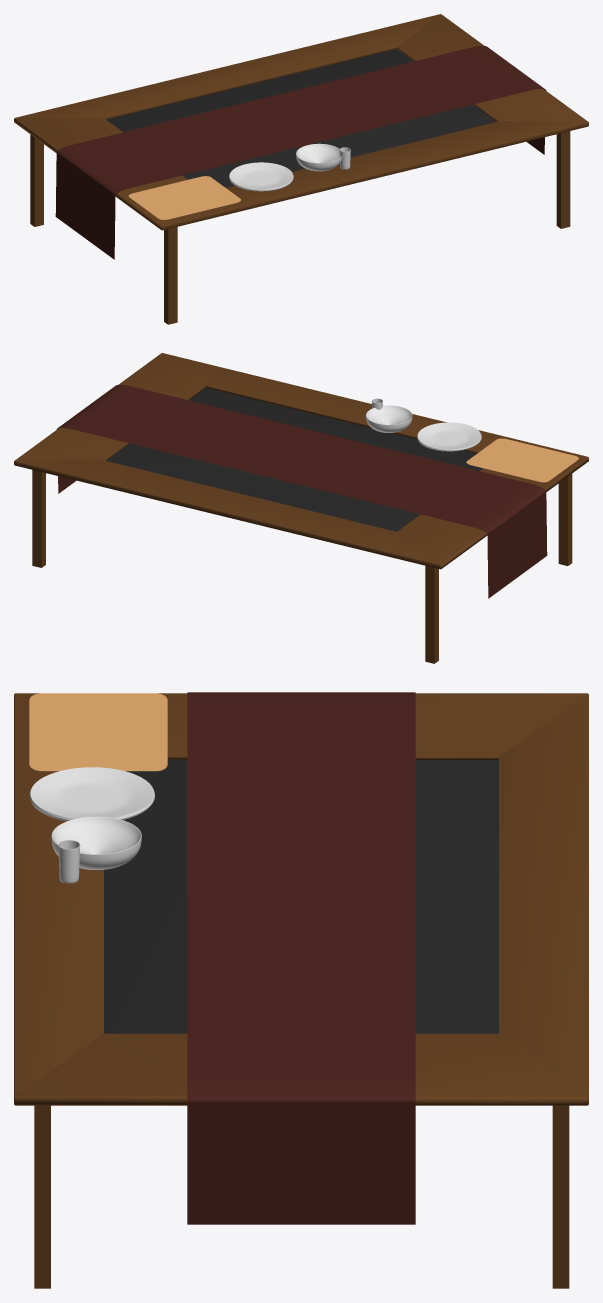
Rendered from Dining Table.fbx.
3 views of the same model, one above another, from view 1: azimuth 30°, elevation 25°; view 2: azimuth 150°, elevation 25°; view 3: azimuth 270°, elevation 25° (orthographic). The views are drawn at different scales.
Parts seen in each view (by area): view 1: Table, Mat, Place Mat, Plate, Bowl; view 2: Table, Mat, Place Mat, Plate, Bowl; view 3: Table, Mat, Place Mat, Plate, Bowl, Glass.
Boxes of the visible parts, x1=… form: Table: x1=14, y1=14, x2=588, y2=324; Mat: x1=55, y1=46, x2=546, y2=259; Place Mat: x1=128, y1=176, x2=240, y2=219; Plate: x1=229, y1=162, x2=293, y2=191; Bowl: x1=296, y1=143, x2=341, y2=171; Table: x1=14, y1=353, x2=588, y2=663; Mat: x1=56, y1=384, x2=547, y2=598; Place Mat: x1=466, y1=438, x2=578, y2=482; Plate: x1=417, y1=422, x2=481, y2=451; Bowl: x1=366, y1=405, x2=412, y2=432; Table: x1=14, y1=693, x2=588, y2=1288; Mat: x1=187, y1=692, x2=415, y2=1224; Place Mat: x1=29, y1=693, x2=167, y2=771; Plate: x1=29, y1=767, x2=154, y2=821; Bowl: x1=51, y1=816, x2=141, y2=870; Glass: x1=58, y1=840, x2=80, y2=883.
Bounding box in the file's own units: 505 × 138 × 300.
